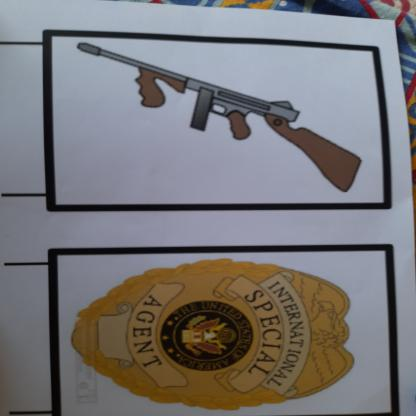Bootlegger: (53, 34, 374, 202)
G-man: (63, 252, 364, 414)
